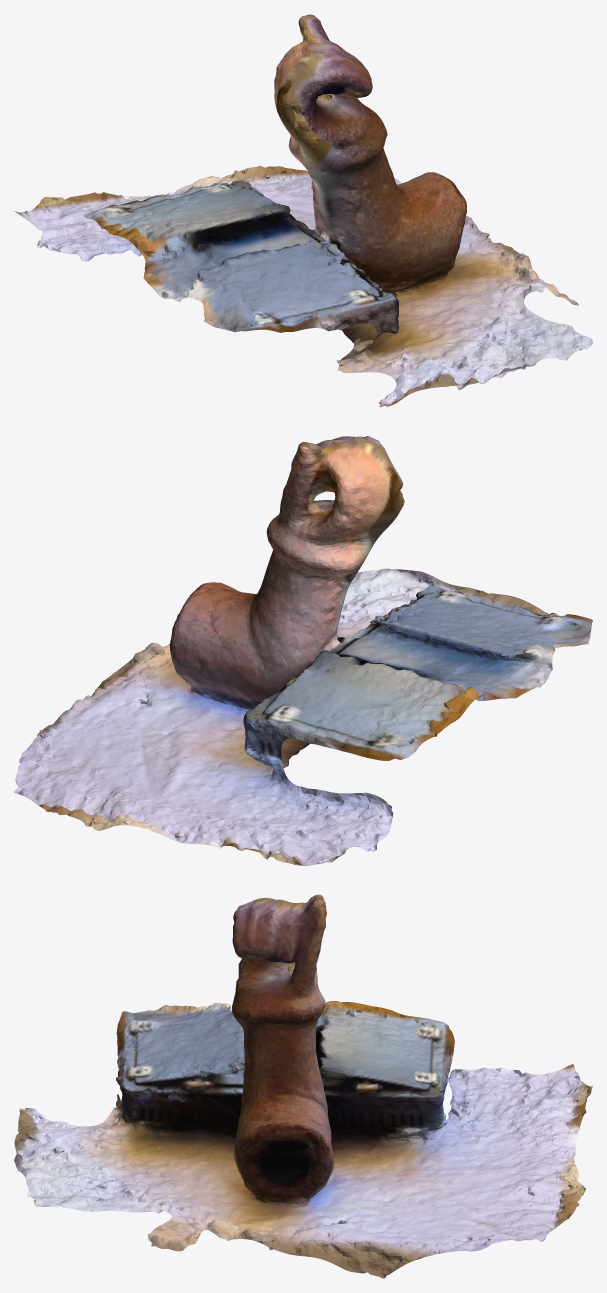
3 renders of one model, top to bottom at view 1: azimuth 30°, elevation 25°; view 2: azimuth 150°, elevation 25°; view 3: azimuth 270°, elevation 25°, orthographic. The views are drawn at different scales.
Size of the model in its own units: 0.2772 by 0.2038 by 0.3726.
1 material, 1 textured.
